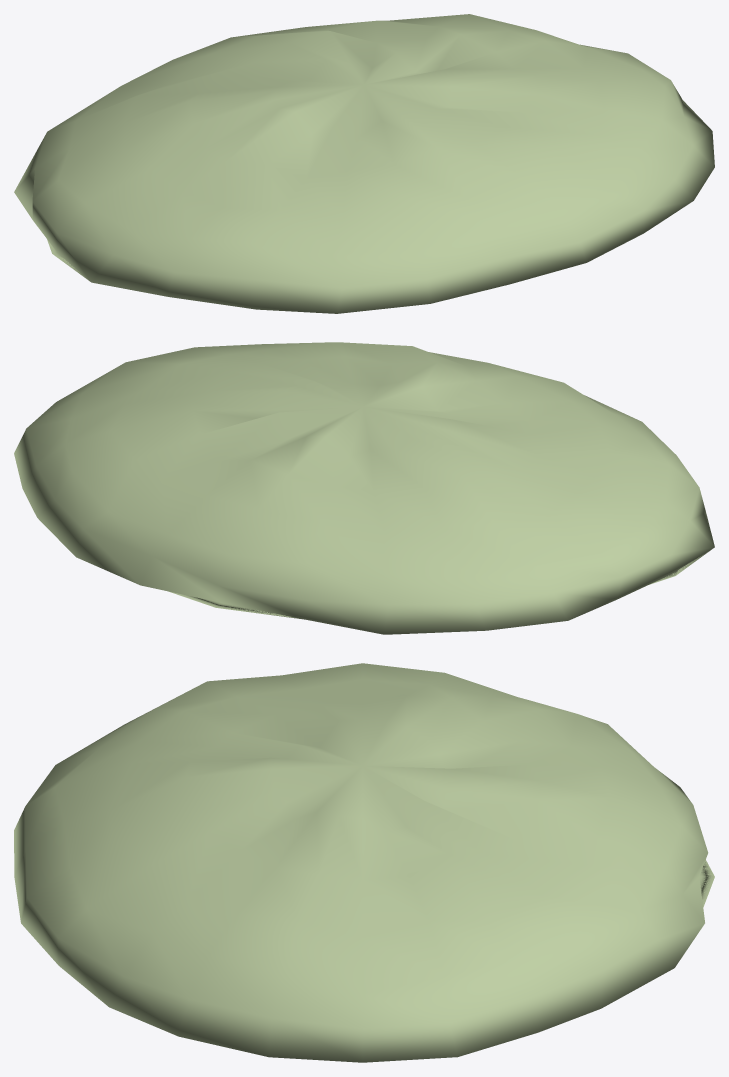
The model's file is decor_bedding_patch.glb.
The picture shows the model from 3 angles, top to bottom: view 1: azimuth 30°, elevation 25°; view 2: azimuth 150°, elevation 25°; view 3: azimuth 270°, elevation 25°; orthographic projection. The views are drawn at different scales.
Visible parts, largest first — view 1: decor_bedding_patch; view 2: decor_bedding_patch; view 3: decor_bedding_patch.
Part boxes in pixels (bbox=[...]): decor_bedding_patch: bbox=[14, 14, 714, 313]; decor_bedding_patch: bbox=[14, 342, 714, 634]; decor_bedding_patch: bbox=[14, 663, 714, 1062].
Size of the model in its own units: 0.1347 by 0.019 by 0.1085.
